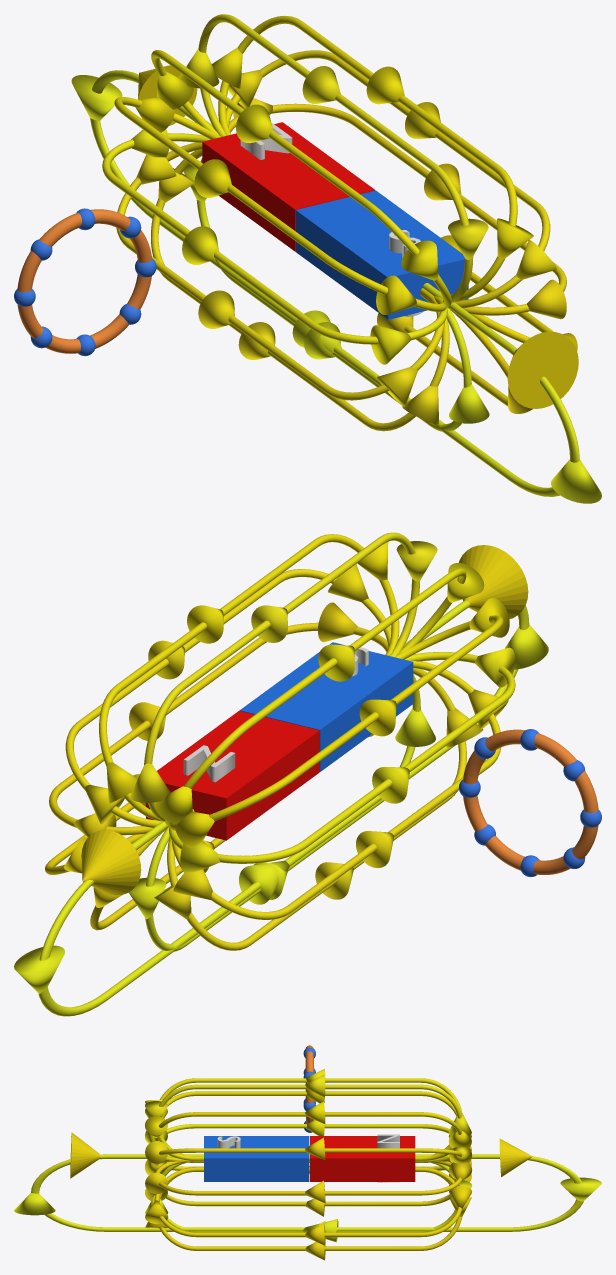
Rendered from inductionloopnearmagnet.glb.
3 views of the same model, one above another, from view 1: azimuth 30°, elevation 25°; view 2: azimuth 150°, elevation 25°; view 3: azimuth 270°, elevation 25° (orthographic). The views are drawn at different scales.
Parts seen in each view (by area): view 1: Cube.002, Cone.015, Cube.001, Cone.004, Cone.005, Cone.008, Cone.007, Cone.006, Cone.009, Cone.003, Cone.010, Cone.001 (+7 smaller); view 2: Cube.001, Cone.015, Cube.002, Cone.004, Cone.007, Cone.008, Cone.005, Cone.006, Cone.009, Cone.003, Cone.001, Cone.010 (+7 smaller); view 3: Cone.015, Cube.002, Cube.001, Cone.011, Cone.005, Cone.001, Cone.003, Cone.004, Cone.012, Cone.010, Cone.007, Cone.006 (+7 smaller).
Boxes of the visible parts, <box> form: Cube.002: <box>295,190,468,319</box>; Cone.015: <box>71,70,601,503</box>; Cube.001: <box>202,122,375,251</box>; Cone.004: <box>179,14,488,302</box>; Cone.005: <box>211,15,533,301</box>; Cone.008: <box>114,97,446,314</box>; Cone.007: <box>102,129,447,364</box>; Cone.006: <box>151,50,451,307</box>; Cone.009: <box>116,142,444,406</box>; Cone.003: <box>226,50,556,308</box>; Cone.010: <box>151,149,449,431</box>; Cone.001: <box>229,98,566,319</box>; Cube.001: <box>146,710,319,840</box>; Cone.015: <box>14,600,548,1016</box>; Cube.002: <box>239,642,413,771</box>; Cone.004: <box>130,532,437,821</box>; Cone.007: <box>169,647,515,872</box>; Cone.008: <box>170,598,509,848</box>; Cone.005: <box>99,534,399,821</box>; Cone.006: <box>156,563,484,826</box>; Cone.009: <box>171,660,508,919</box>; Cone.003: <box>65,564,391,827</box>; Cone.001: <box>49,602,388,837</box>; Cone.010: <box>154,668,483,950</box>; Cone.015: <box>14,1154,601,1242</box>; Cube.002: <box>204,1136,309,1181</box>; Cube.001: <box>310,1136,415,1181</box>; Cone.011: <box>145,1167,471,1245</box>; Cone.005: <box>145,1101,471,1160</box>; Cone.001: <box>145,1161,471,1203</box>; Cone.003: <box>145,1137,472,1163</box>; Cone.004: <box>145,1074,471,1154</box>; Cone.012: <box>145,1167,471,1260</box>; Cone.010: <box>145,1167,471,1216</box>; Cone.007: <box>145,1120,471,1162</box>; Cone.006: <box>145,1069,470,1148</box>.
Size of the model in its own units: 9.18 by 5.59 by 17.85.
